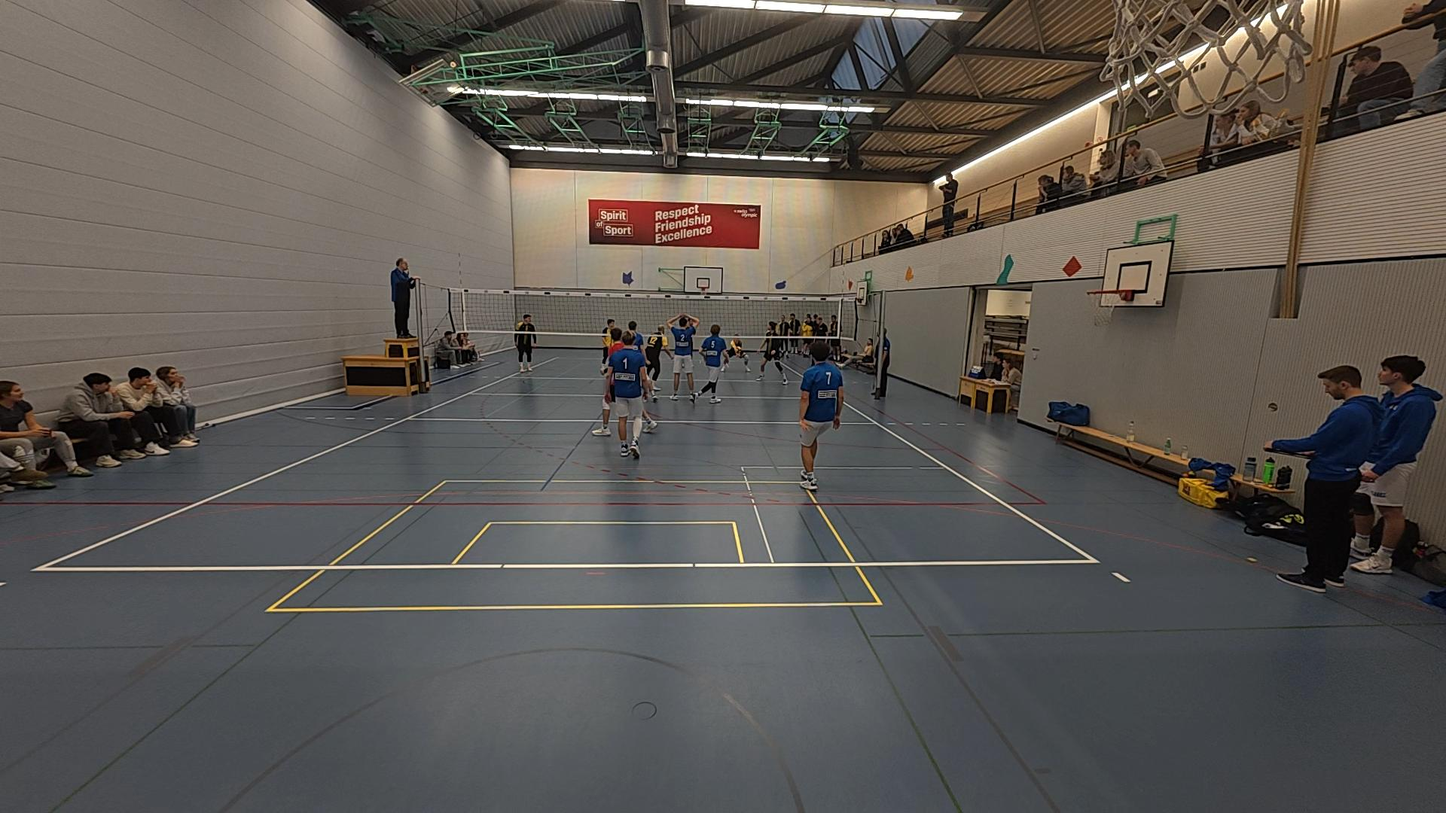ricezione: (721, 332, 758, 373)
